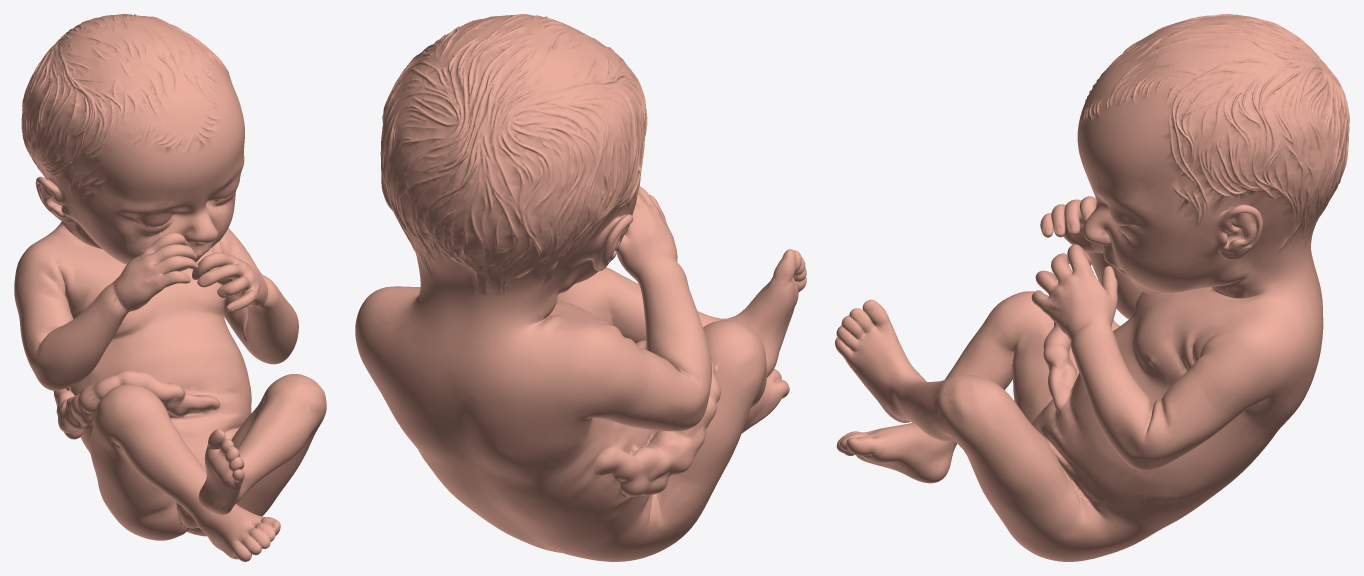
Rendered from semaine-28.glb.
3 renders of one model, left to right at view 1: azimuth 30°, elevation 25°; view 2: azimuth 150°, elevation 25°; view 3: azimuth 270°, elevation 25°, orthographic. The views are drawn at different scales.
Size of the model in its own units: 1.1 by 1.9 by 1.7.
